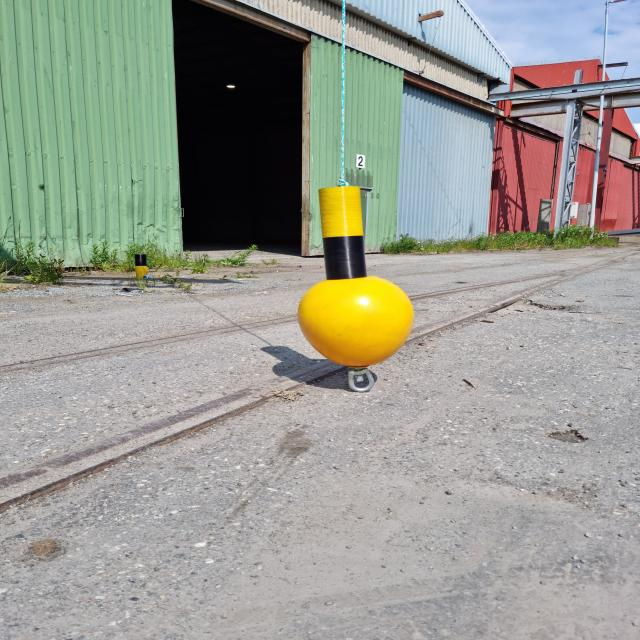west: (298, 187, 416, 364)
